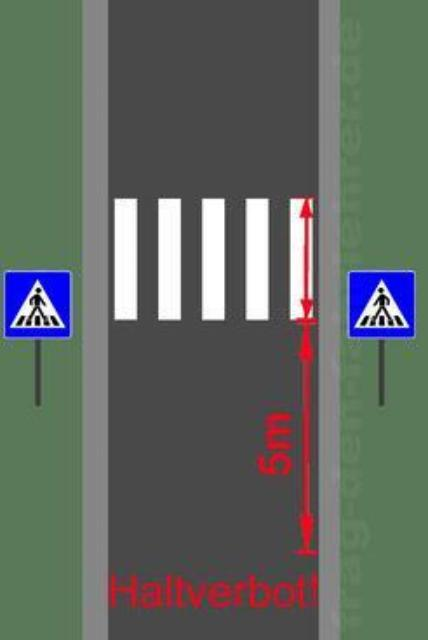crosswalk-sign: (4, 270, 73, 341), (349, 270, 418, 339)
